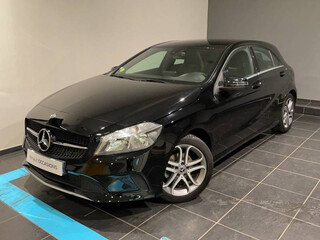car: (20, 32, 302, 212)
